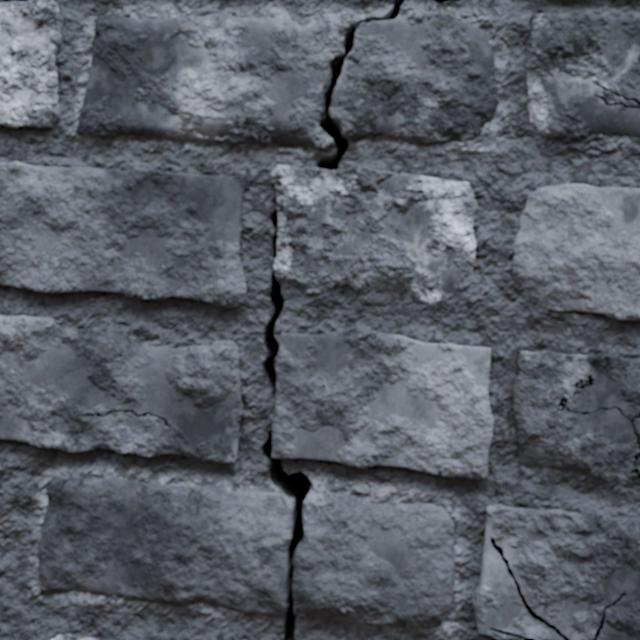broken_brick: (77, 11, 355, 149), (37, 477, 292, 616), (330, 10, 497, 143), (293, 489, 454, 626)
crack: (261, 22, 493, 639), (0, 161, 246, 308), (0, 315, 243, 463), (472, 504, 639, 639), (512, 184, 639, 320), (512, 351, 639, 485), (525, 11, 639, 144), (0, 0, 63, 128), (362, 0, 404, 22), (51, 634, 114, 639), (0, 625, 12, 639), (0, 463, 5, 482), (434, 0, 461, 3), (299, 25, 308, 31), (124, 134, 148, 136), (271, 143, 309, 144), (151, 136, 168, 137), (201, 139, 217, 140), (187, 138, 199, 139), (171, 137, 183, 138)
